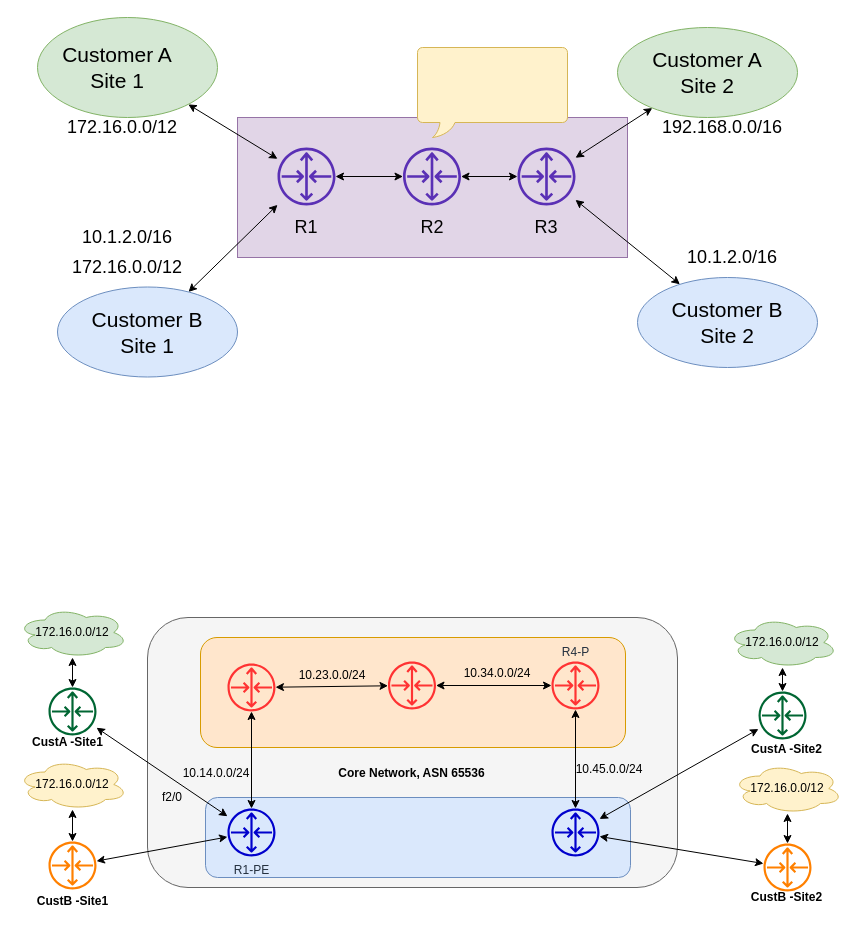
This 860x929 diagram has some shape labels left out. Each missing label, with the box of its shape:
1. Routing 2. Forwarding 3. Switching: (416, 46, 568, 138)
IPv4, OSPF, MPLS + MBGP, cust IGP: (204, 796, 630, 878)
R2-P: (227, 663, 275, 711)
R3-P: (388, 661, 436, 709)
R5-PE: (551, 808, 599, 856)
